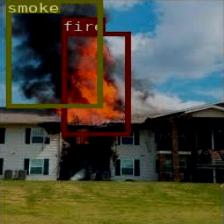fire: (61, 31, 129, 135)
smoke: (6, 0, 102, 107)
